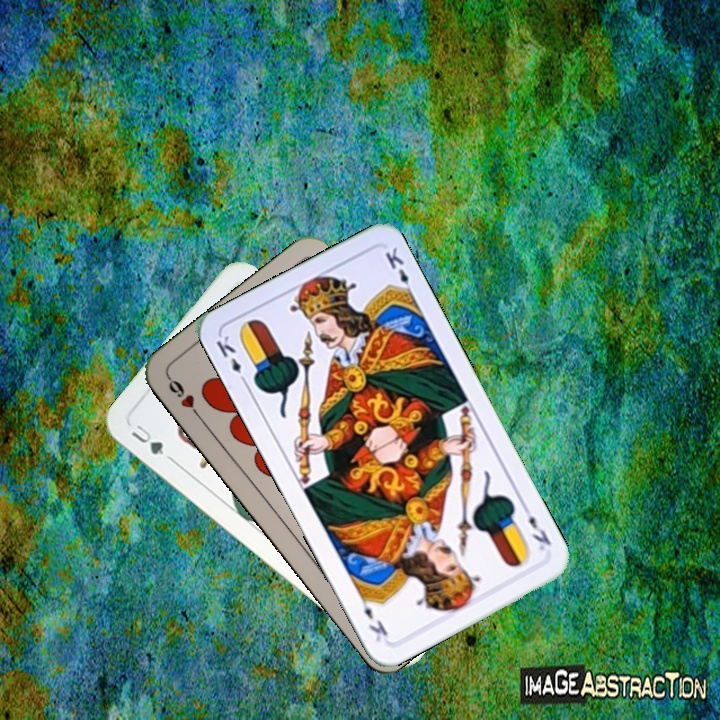EK: (212, 331, 251, 388), (518, 500, 554, 554)
GU: (127, 420, 167, 458)
H9: (164, 372, 205, 423)
